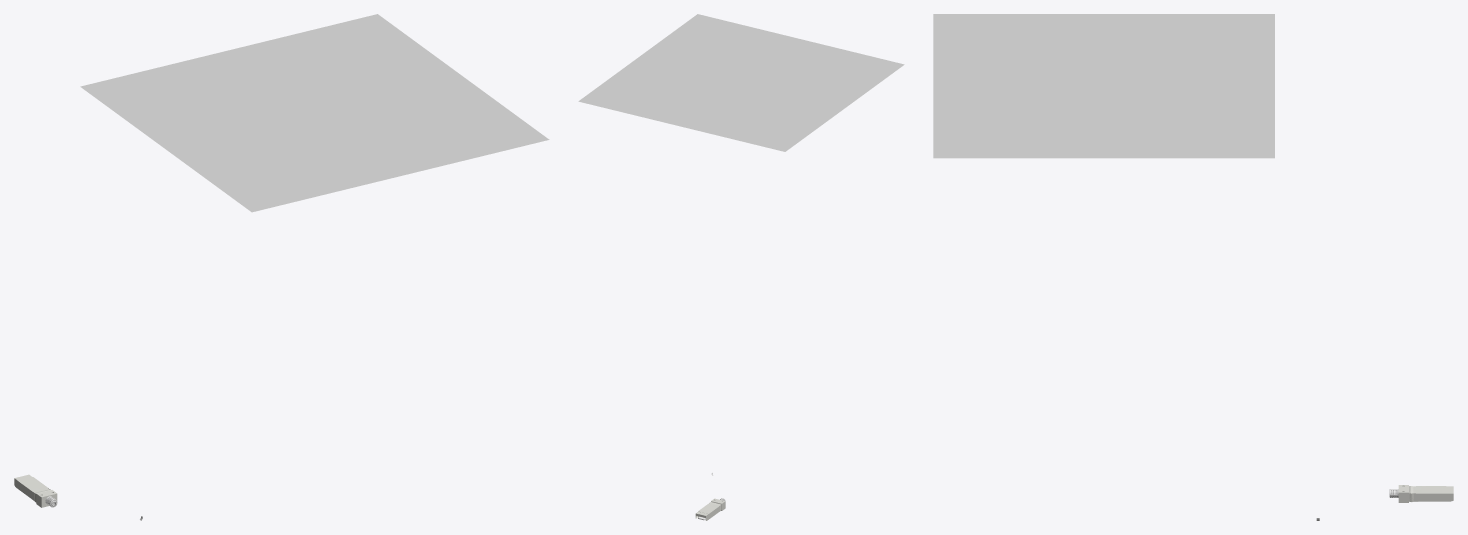
The model's file is USB23.fbx.
3 renders of one model, left to right at view 1: azimuth 30°, elevation 25°; view 2: azimuth 150°, elevation 25°; view 3: azimuth 270°, elevation 25°, orthographic. The views are drawn at different scales.
Visible parts, largest first — view 1: Top light; view 2: Top light; view 3: Top light.
Part boxes in pixels (x1,y1,x2,y2): Top light: (80, 14, 549, 212); Top light: (578, 14, 904, 151); Top light: (933, 14, 1274, 158).
Bounding box in the file's own units: 22.74 × 34.49 × 34.62.
5 materials, 2 textured.
